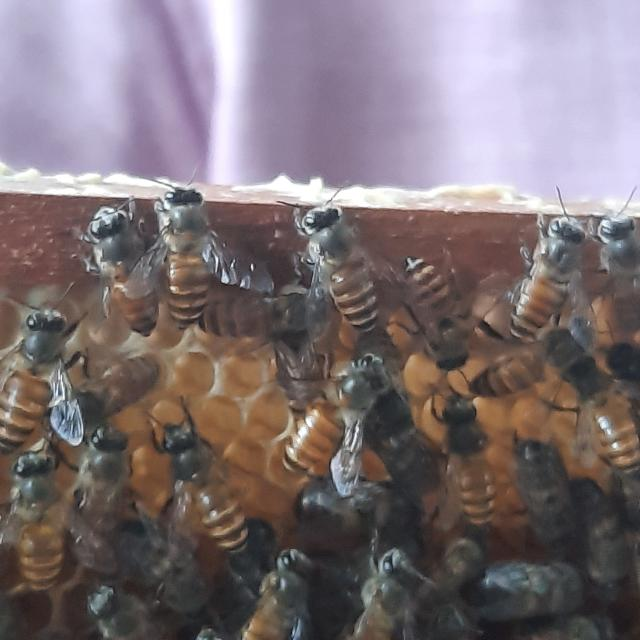honeybee: (349, 356, 450, 516), (157, 404, 247, 549), (285, 358, 375, 492), (11, 430, 83, 584), (288, 464, 411, 552), (433, 387, 507, 530), (71, 427, 147, 566), (1, 297, 68, 448), (497, 208, 577, 332), (116, 516, 207, 620), (297, 212, 378, 328), (568, 351, 640, 479), (400, 261, 476, 379), (208, 512, 313, 596), (514, 434, 592, 546), (473, 319, 578, 402), (88, 205, 155, 328), (568, 478, 638, 592), (158, 186, 218, 317), (206, 278, 324, 341), (466, 558, 565, 628), (242, 545, 311, 640), (409, 540, 484, 611), (353, 552, 412, 640), (88, 587, 164, 640), (601, 212, 640, 314), (528, 612, 604, 640)
